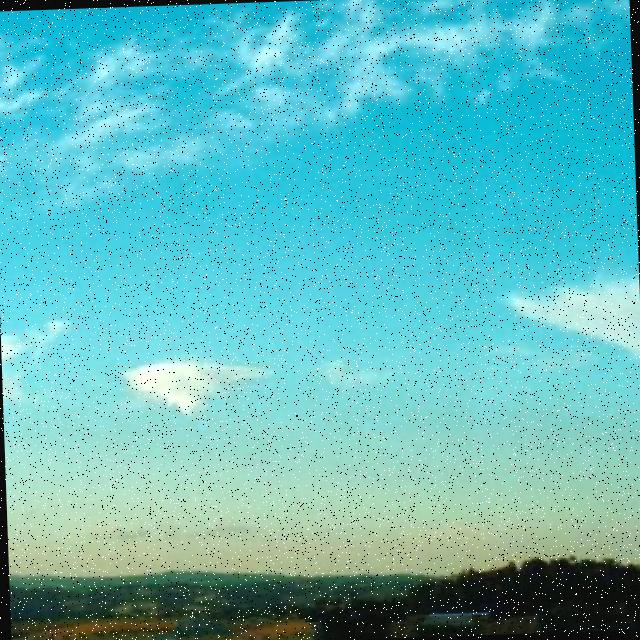Ci: (1, 1, 640, 449)
